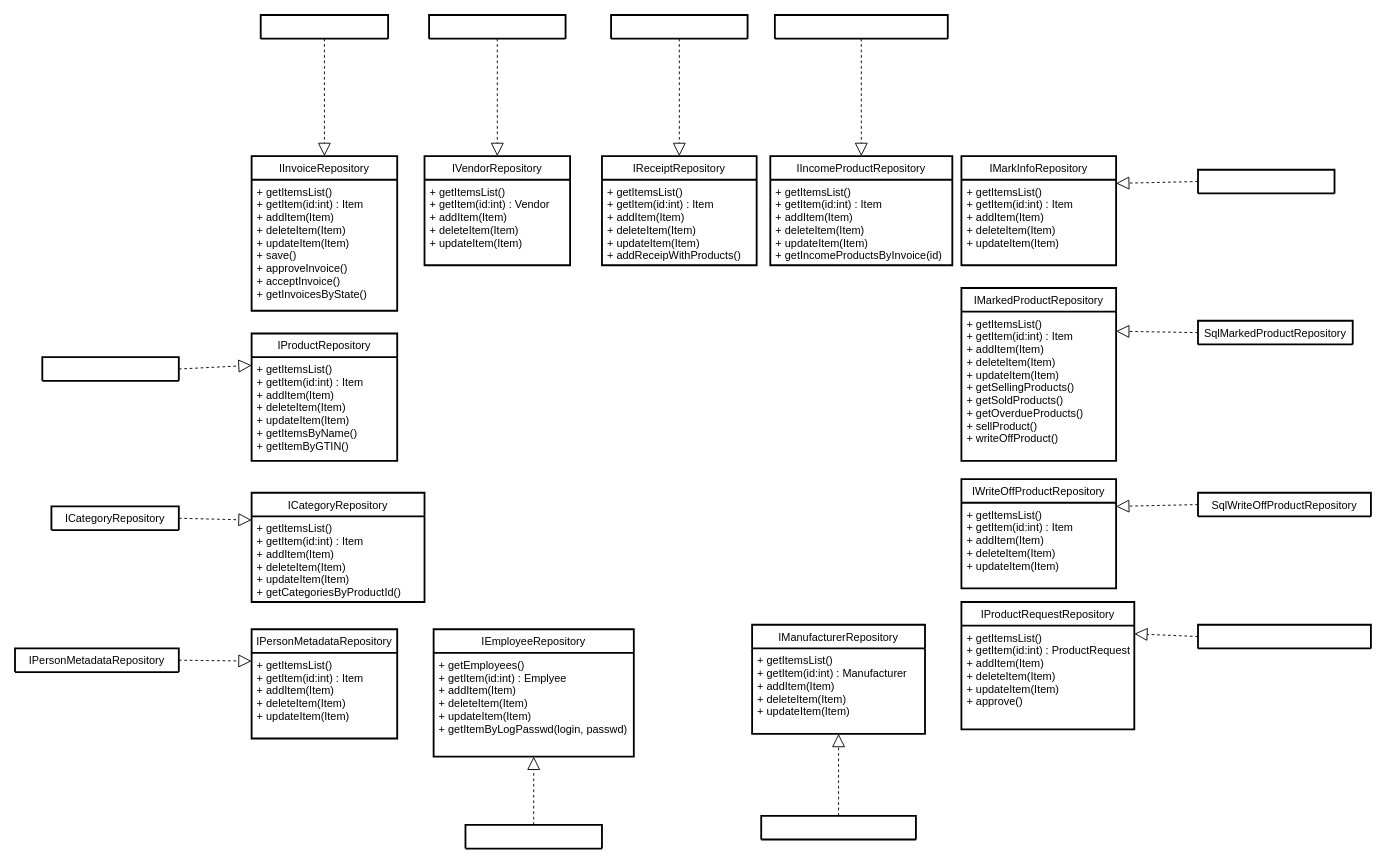
The diagram is 1386 pixels wide and 864 high, and some of its shapes have lost their labels. The shapes that lost their labels are listed below. From the top down, each one's centre as x and y in pixels, then its label:
At [324,26]: "SqlInvoiceRepository".
At [497,26]: "SqlVendorRepository".
At [679,26]: "SqlReceiptRepository".
At [861,26]: "SqlIncomeProductRepository".
At [1266,181]: "SqlMarkInfoRepository".
At [110,368]: "SqlProductRepository".
At [1284,636]: "SqlProductRequestRepository".
At [533,836]: "SqlEmployeeRepository".
At [838,827]: "SqlManufacturerRepository".
